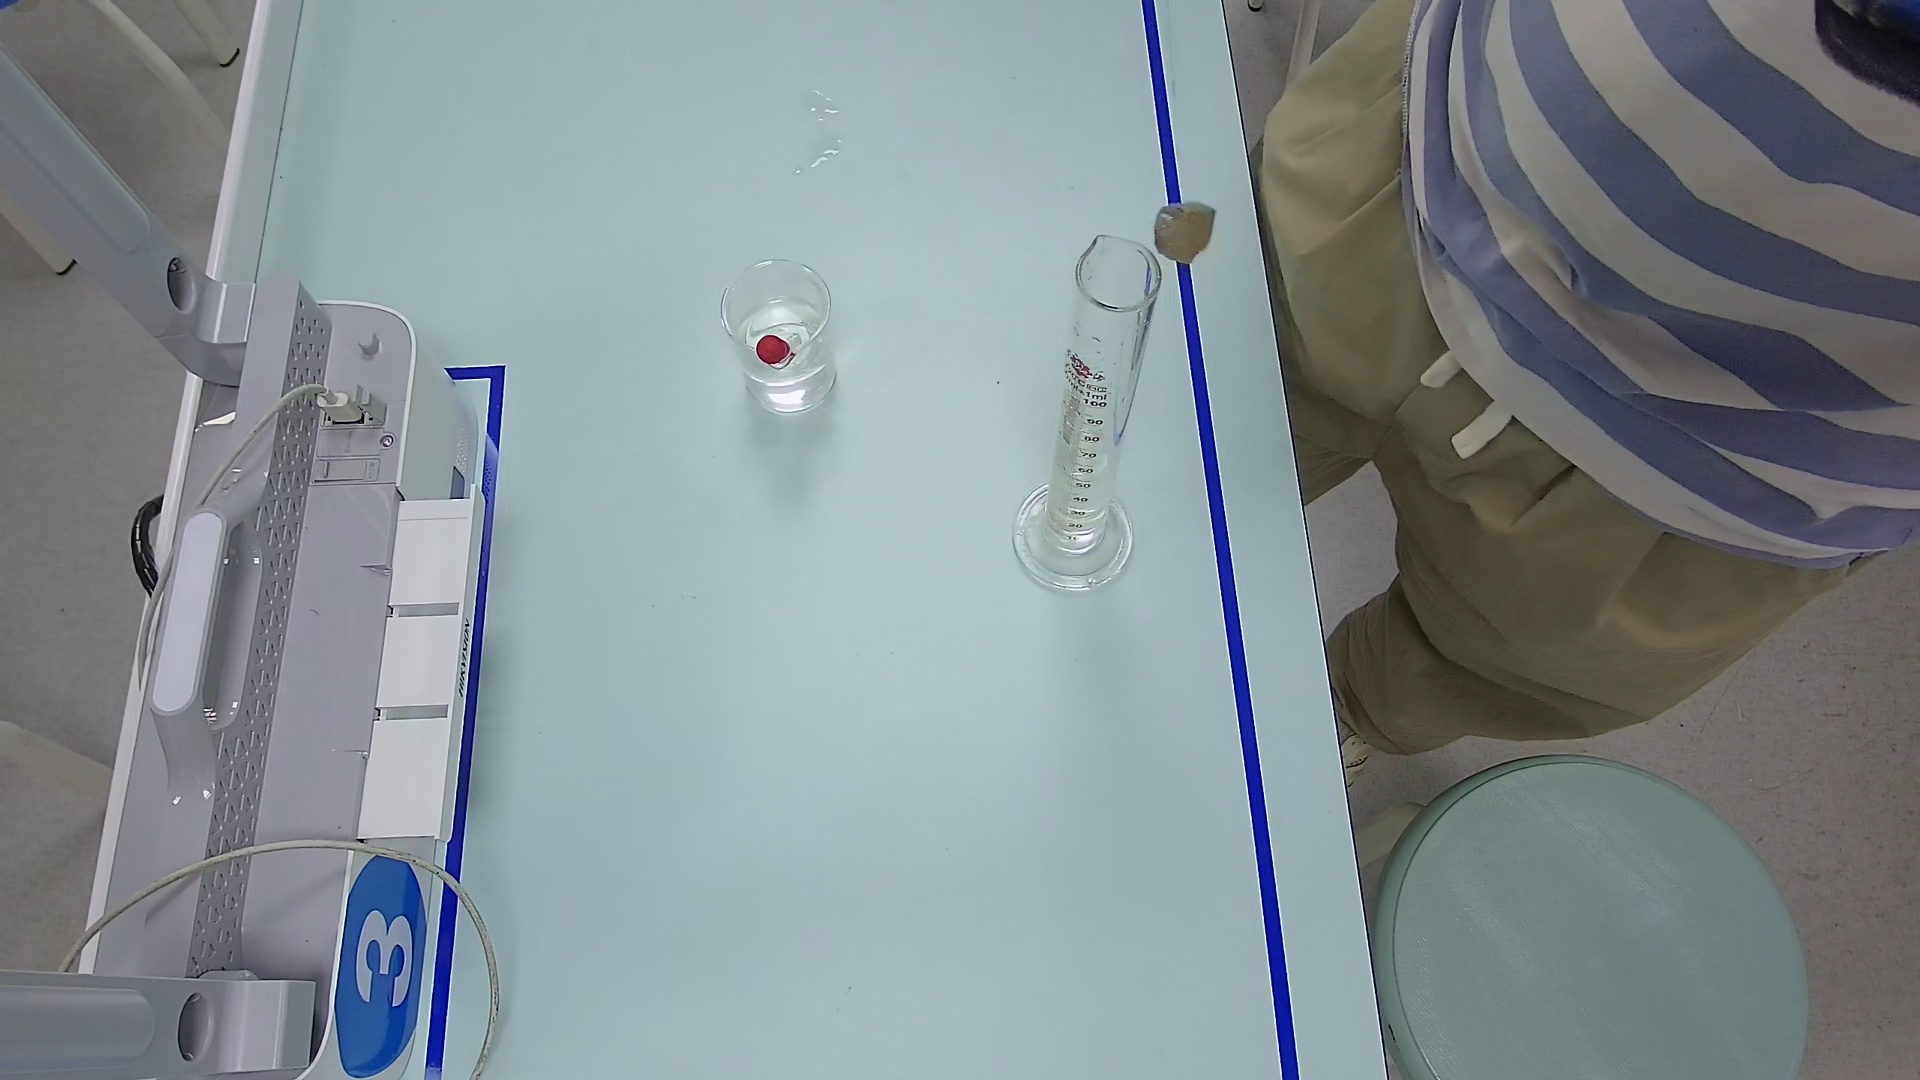ao: (1064, 422, 1118, 473)
bei: (723, 252, 847, 409)
diguantou: (754, 324, 796, 377)
liangdi: (1011, 484, 1130, 599)
liangtong: (1005, 233, 1160, 596)
shi: (1155, 193, 1217, 253)
